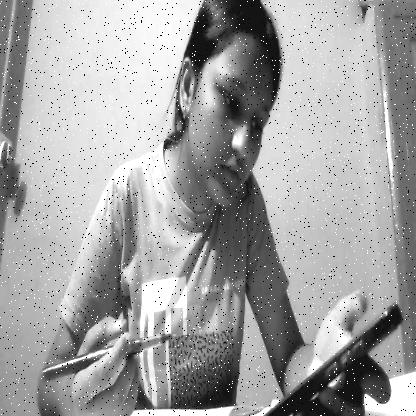Distracted: (176, 1, 289, 219)
